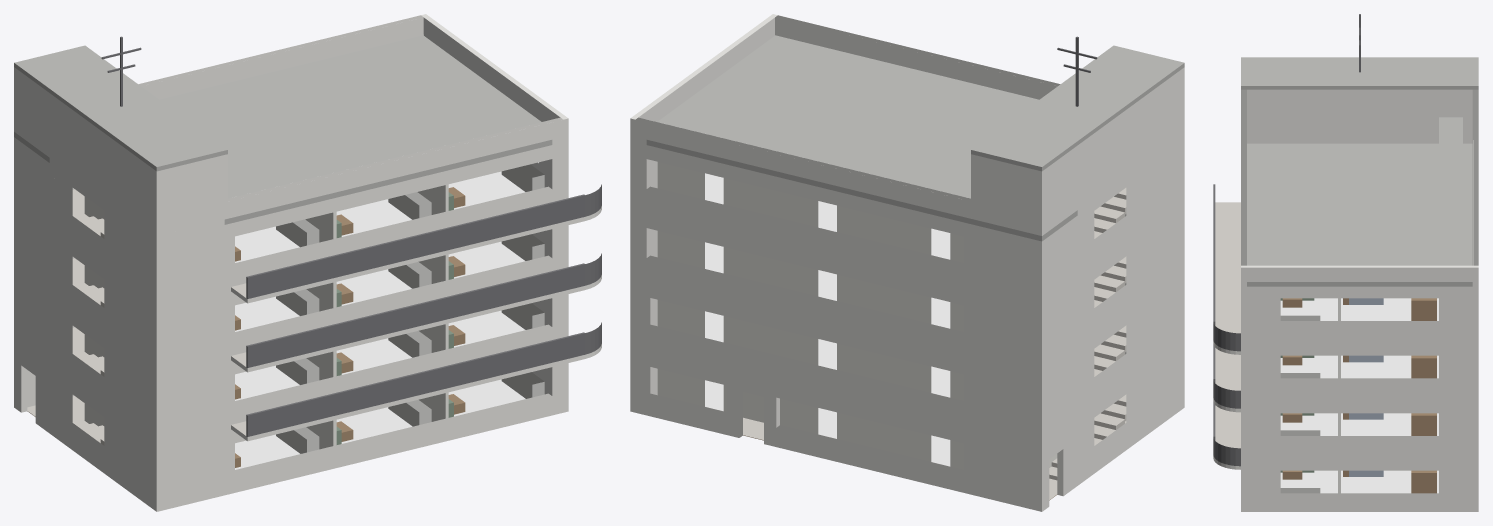
The model's file is apartment.gaps-v1.lod0.glb.
3 renders of one model, left to right at view 1: azimuth 30°, elevation 25°; view 2: azimuth 150°, elevation 25°; view 3: azimuth 270°, elevation 25°, orthographic. The views are drawn at different scales.
Visible parts, largest first — view 1: apartment; view 2: apartment; view 3: apartment.
Boxes of the visible parts, x1,y1,x2,y2 form: apartment: (14, 14, 601, 511); apartment: (630, 14, 1184, 511); apartment: (1213, 14, 1478, 511).
Size of the model in its own units: 21.4 by 19.22 by 13.4.
